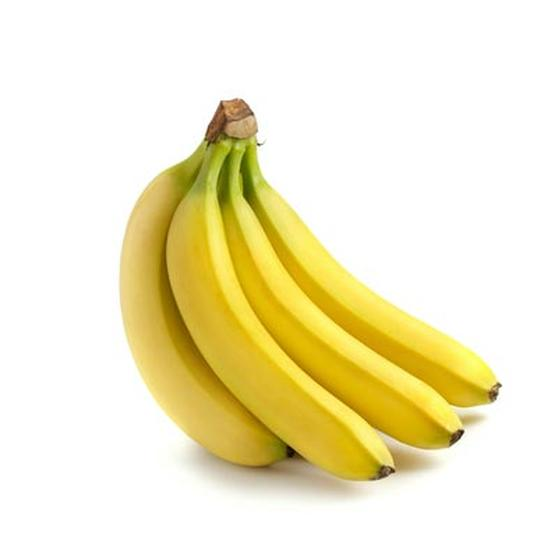banana: (160, 142, 398, 485)
